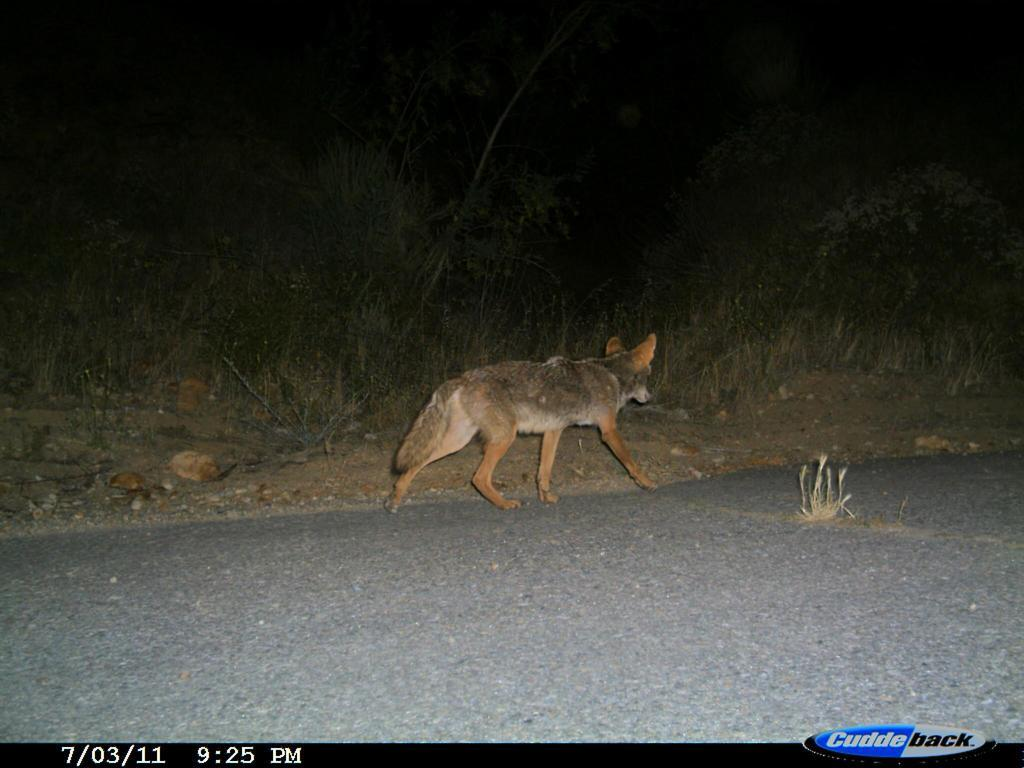coyote: (385, 327, 676, 515)
